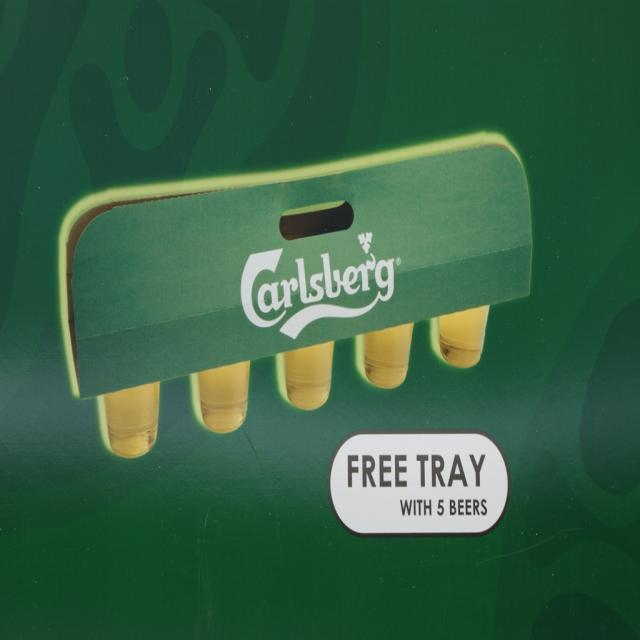carlsberg: (236, 217, 414, 340)
